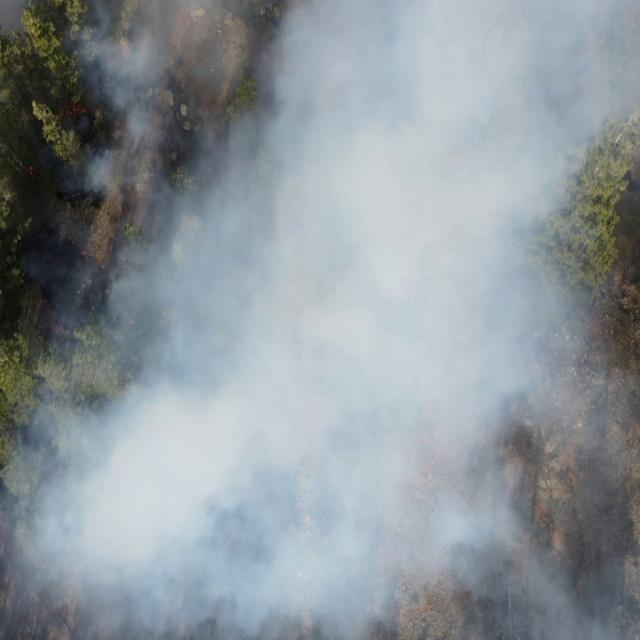fire: (0, 0, 34, 40), (54, 104, 88, 121), (24, 162, 38, 179), (80, 248, 88, 257)
smoke: (0, 389, 640, 640), (16, 188, 613, 390), (56, 0, 640, 188), (615, 366, 640, 388)
